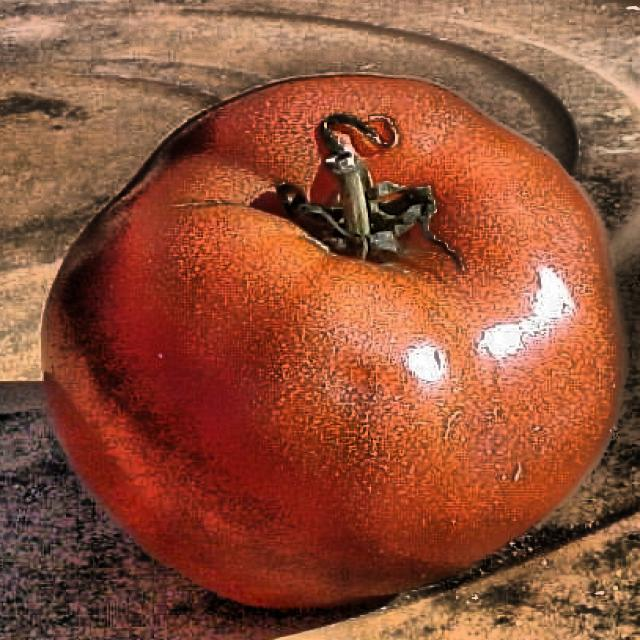tomato: (38, 50, 639, 607)
